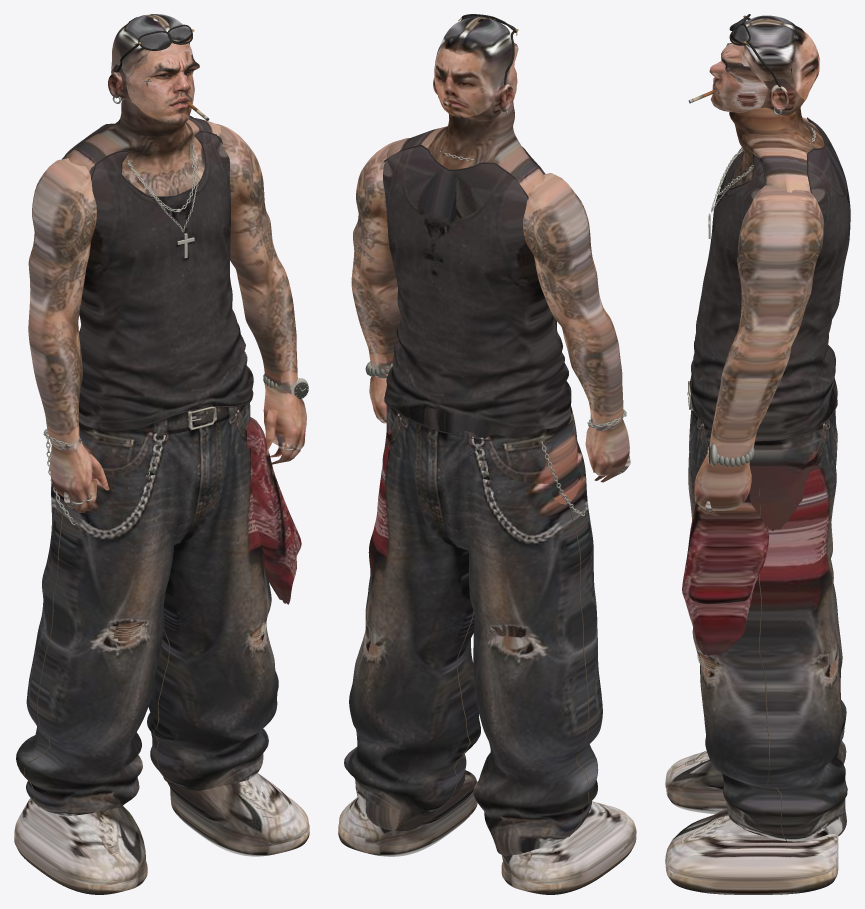
The model's file is tattoo-youth.glb.
3 renders of one model, left to right at view 1: azimuth 30°, elevation 25°; view 2: azimuth 150°, elevation 25°; view 3: azimuth 270°, elevation 25°, orthographic.
Visible parts, largest first — view 1: 右裤管 · 宽腿丹宁和破膝, 背心 · 领肩袖窿与扭褶下摆, 左裤管 · 宽腿丹宁和破膝, 右臂 · 纹身及三角肌, 牛仔裤 · 臀胯与前门襟, 左臂 · 纹身及三角肌, 右鞋 · 皮革鞋帮和鞋头, 颈纹 · 喉结及斜方肌, 左鞋 · 皮革鞋帮和鞋头, 佩斯利红方巾 · 多重斜折, 面部主网格｜鼻唇与眼眶, 右手 · 掌骨与鱼际 (+6 smaller); view 2: 右裤管 · 宽腿丹宁和破膝, 背心 · 领肩袖窿与扭褶下摆, 左裤管 · 宽腿丹宁和破膝, 牛仔裤 · 臀胯与前门襟, 右臂 · 纹身及三角肌, 左臂 · 纹身及三角肌, 寸头渐变 · 独立绒面与鬓角轮廓, 右鞋 · 皮革鞋帮和鞋头, 颈纹 · 喉结及斜方肌, 左鞋 · 皮革鞋帮和鞋头, 右手 · 掌骨与鱼际, 右鞋 · 分层橡胶鞋底 (+3 smaller); view 3: 左裤管 · 宽腿丹宁和破膝, 背心 · 领肩袖窿与扭褶下摆, 左臂 · 纹身及三角肌, 佩斯利红方巾 · 多重斜折, 左鞋 · 皮革鞋帮和鞋头, 牛仔裤 · 臀胯与前门襟, 颈纹 · 喉结及斜方肌, 寸头渐变 · 独立绒面与鬓角轮廓, 面部主网格｜鼻唇与眼眶, 左手 · 掌骨与鱼际, 左鞋 · 分层橡胶鞋底, 右鞋 · 皮革鞋帮和鞋头 (+4 smaller).
Boxes of the visible parts, x1,y1,x2,y2 form: 右裤管 · 宽腿丹宁和破膝: [16, 474, 173, 816]; 背心 · 领肩袖窿与扭褶下摆: [64, 125, 253, 429]; 左裤管 · 宽腿丹宁和破膝: [147, 445, 278, 791]; 右臂 · 纹身及三角肌: [28, 158, 96, 450]; 牛仔裤 · 臀胯与前门襟: [79, 402, 250, 544]; 左臂 · 纹身及三角肌: [216, 124, 297, 394]; 右鞋 · 皮革鞋帮和鞋头: [14, 798, 146, 885]; 颈纹 · 喉结及斜方肌: [65, 99, 222, 196]; 左鞋 · 皮革鞋帮和鞋头: [166, 773, 308, 846]; 佩斯利红方巾 · 多重斜折: [247, 417, 301, 604]; 面部主网格｜鼻唇与眼眶: [126, 52, 199, 124]; 右手 · 掌骨与鱼际: [50, 437, 92, 503]; 右裤管 · 宽腿丹宁和破膝: [469, 441, 602, 856]; 背心 · 领肩袖窿与扭褶下摆: [383, 146, 571, 438]; 左裤管 · 宽腿丹宁和破膝: [344, 444, 480, 831]; 牛仔裤 · 臀胯与前门襟: [382, 405, 581, 550]; 右臂 · 纹身及三角肌: [523, 173, 623, 430]; 左臂 · 纹身及三角肌: [351, 138, 409, 378]; 寸头渐变 · 独立绒面与鬓角轮廓: [434, 17, 512, 117]; 右鞋 · 皮革鞋帮和鞋头: [501, 801, 636, 884]; 颈纹 · 喉结及斜方肌: [386, 101, 544, 195]; 左鞋 · 皮革鞋帮和鞋头: [339, 770, 476, 845]; 右手 · 掌骨与鱼际: [585, 415, 629, 475]; 右鞋 · 分层橡胶鞋底: [501, 836, 636, 894]; 左裤管 · 宽腿丹宁和破膝: [692, 454, 847, 841]; 背心 · 领肩袖窿与扭褶下摆: [690, 119, 850, 440]; 左臂 · 纹身及三角肌: [709, 184, 823, 460]; 佩斯利红方巾 · 多重斜折: [682, 493, 768, 655]; 左鞋 · 皮革鞋帮和鞋头: [665, 808, 838, 881]; 牛仔裤 · 臀胯与前门襟: [689, 409, 837, 530]; 颈纹 · 喉结及斜方肌: [729, 107, 824, 192]; 寸头渐变 · 独立绒面与鬓角轮廓: [743, 15, 819, 100]; 面部主网格｜鼻唇与眼眶: [709, 43, 767, 112]; 左手 · 掌骨与鱼际: [694, 451, 751, 510]; 左鞋 · 分层橡胶鞋底: [665, 859, 838, 894]; 右鞋 · 皮革鞋帮和鞋头: [665, 750, 725, 800].
Size of the model in its own units: 0.5783 by 1.79 by 0.3672.
64 materials, 37 textured.
